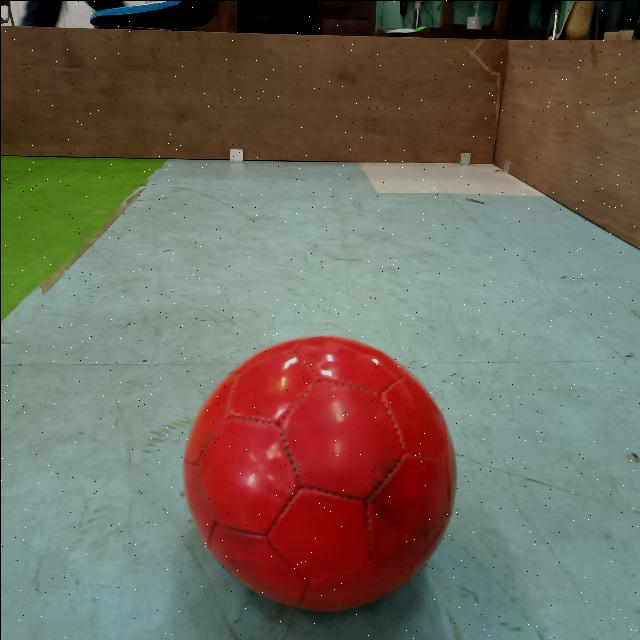R: (180, 331, 456, 634)
